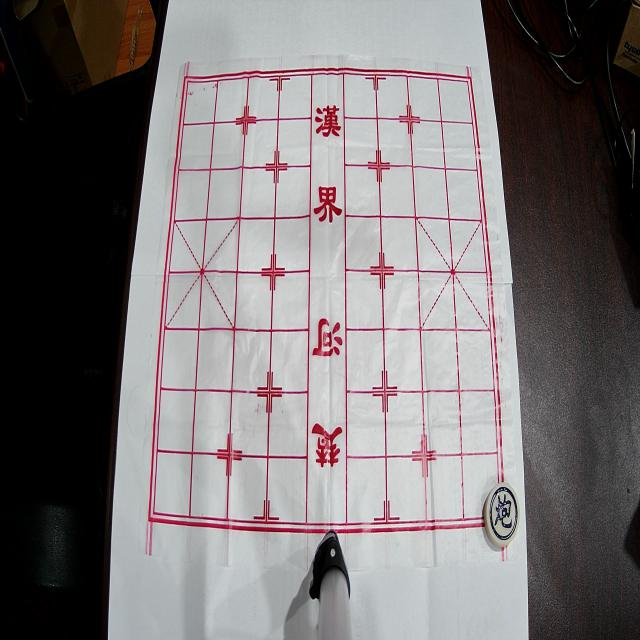black-cannon: (484, 482, 520, 547)
